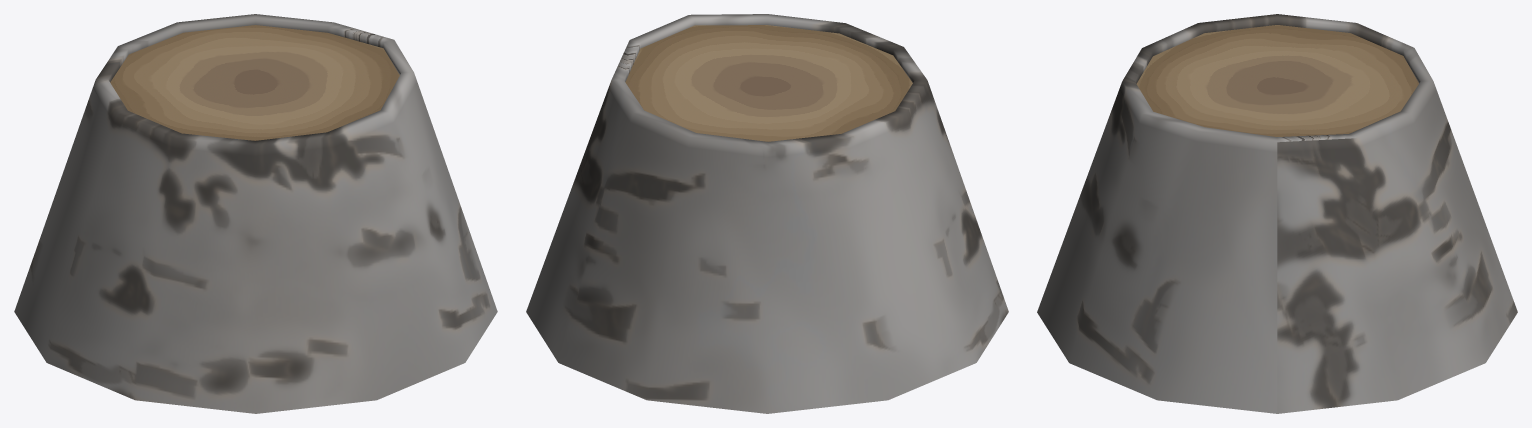
The model's file is tree04__trunk.fbx.
3 renders of one model, left to right at view 1: azimuth 30°, elevation 25°; view 2: azimuth 150°, elevation 25°; view 3: azimuth 270°, elevation 25°, orthographic.
Visible parts, largest first — view 1: Cylinder.014; view 2: Cylinder.014; view 3: Cylinder.014.
Boxes of the visible parts, bbox=[...] form: Cylinder.014: bbox=[14, 14, 497, 413]; Cylinder.014: bbox=[526, 14, 1008, 413]; Cylinder.014: bbox=[1037, 14, 1517, 413].
Size of the model in its own units: 40.6 by 22.19 by 40.6.
